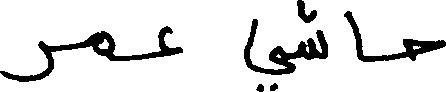X: (244, 14, 294, 91), (0, 36, 53, 86), (302, 0, 326, 64), (403, 34, 445, 65), (346, 6, 363, 66), (159, 21, 182, 61), (95, 26, 115, 65)
